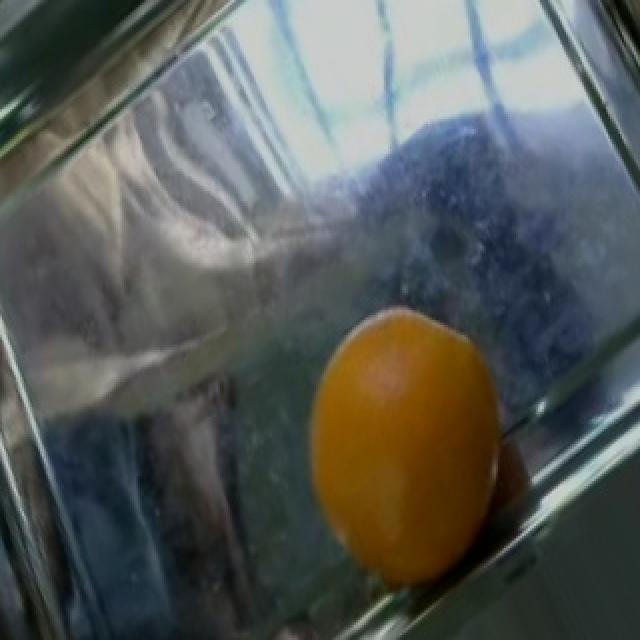Fruit: (288, 303, 528, 605)
